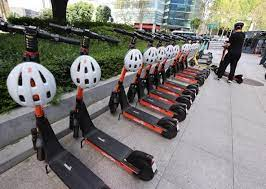kick_handler: (49, 23, 119, 47), (114, 28, 155, 43)
kick_neck: (24, 50, 49, 122), (77, 49, 88, 111)
kick_wheel: (131, 151, 157, 181), (31, 130, 46, 161), (160, 117, 179, 140), (171, 104, 186, 120), (70, 115, 80, 137), (109, 94, 119, 114), (178, 96, 190, 108), (237, 74, 243, 83), (190, 59, 196, 66)
